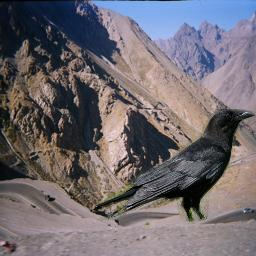Crow: (92, 109, 256, 224)
